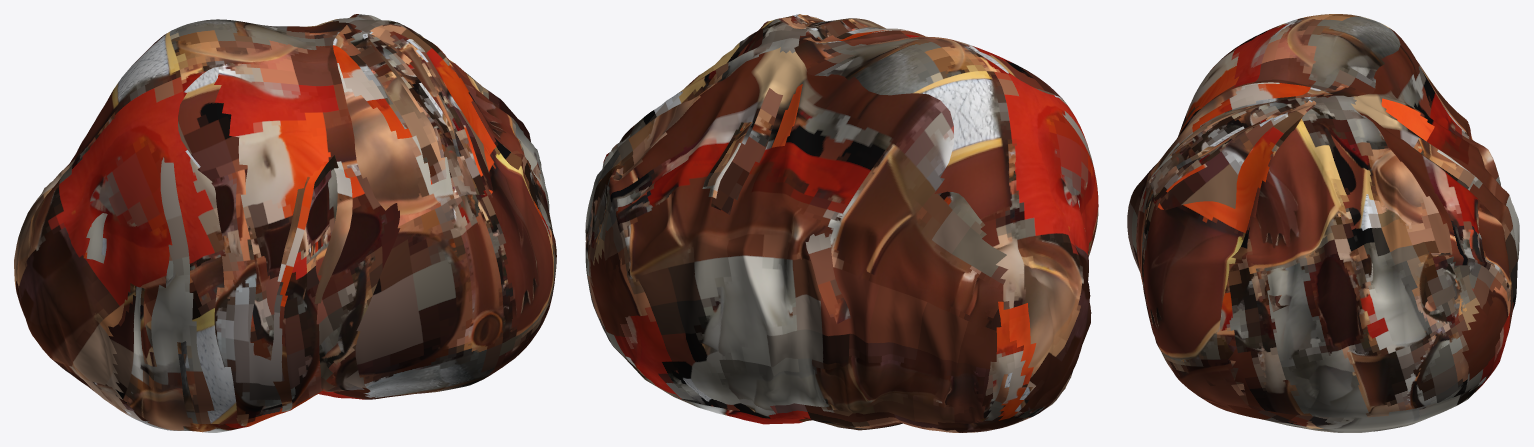
File: bato.fbx
3 views of the same model, side by side, from view 1: azimuth 30°, elevation 25°; view 2: azimuth 150°, elevation 25°; view 3: azimuth 270°, elevation 25° (orthographic). The views are drawn at different scales.
Visible parts, largest first — view 1: model; view 2: model; view 3: model.
Boxes of the visible parts, box(x1,y1,x2,y2) form: model: box(14, 14, 556, 432); model: box(585, 14, 1098, 432); model: box(1127, 14, 1519, 432).
Size of the model in its own units: 43.8 by 30.87 by 34.81.
